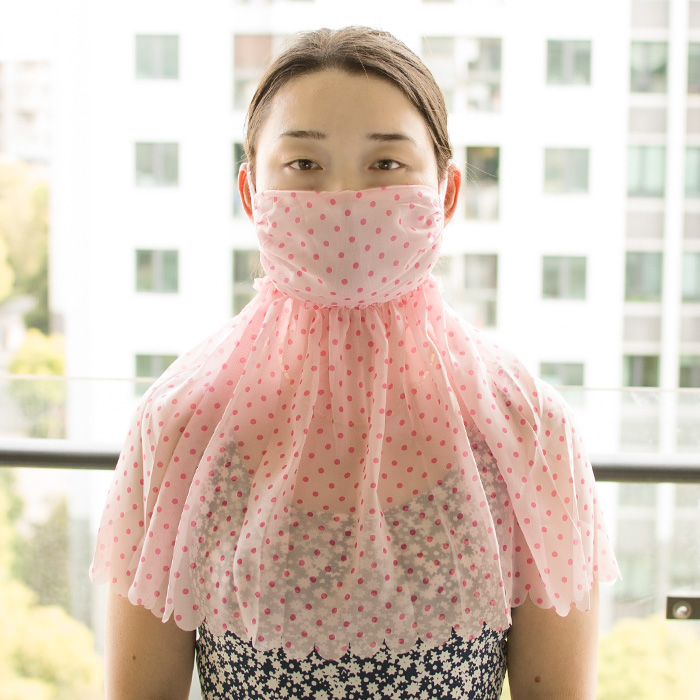face_mask: (248, 68, 437, 303)
